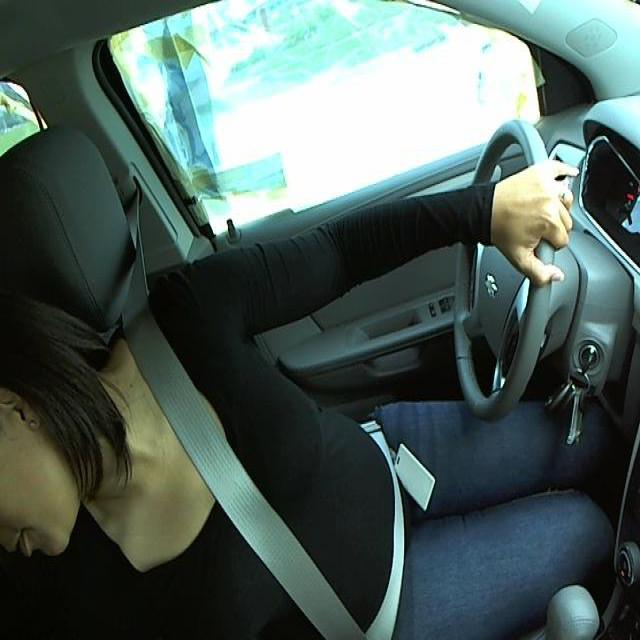seatbelt: (107, 317, 406, 635)
